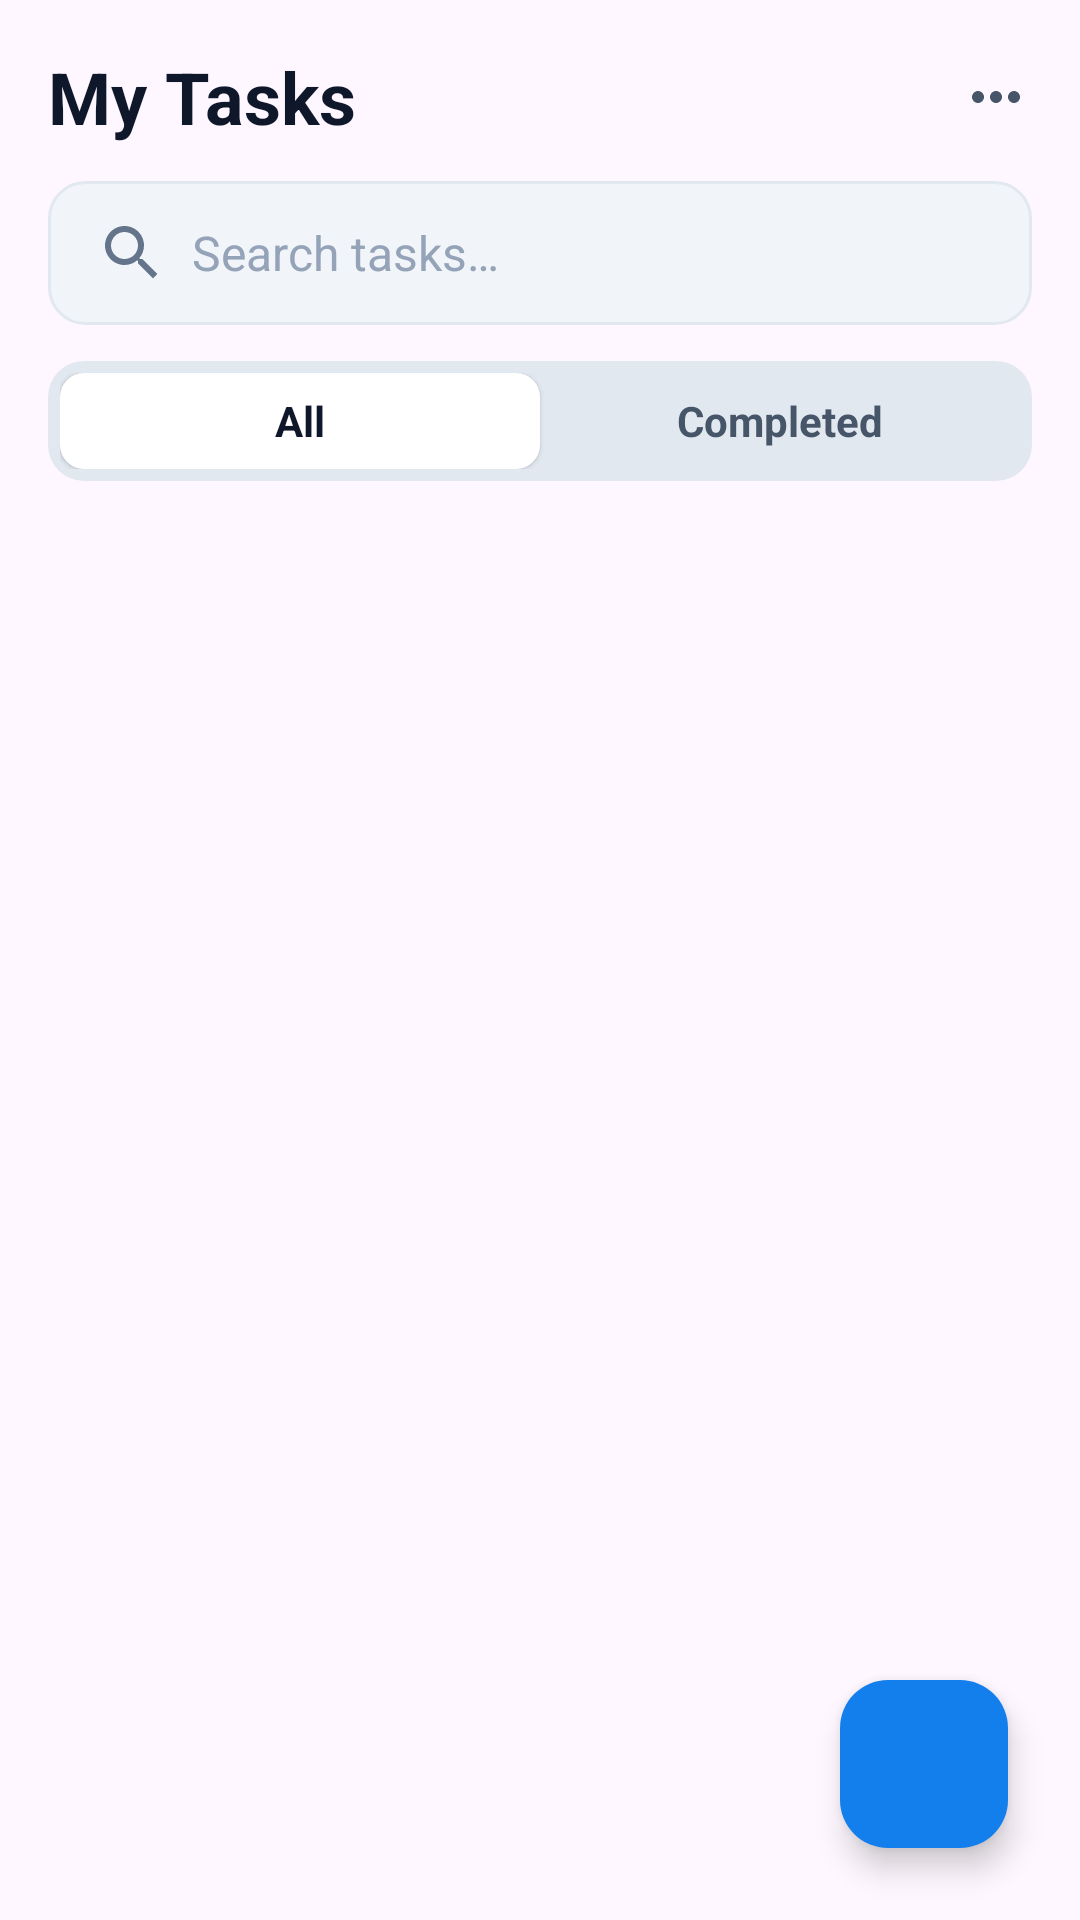

Where to tap for icons on this 1080 x 1920 app screen, as point (x, y):
More options: point (996, 97)
